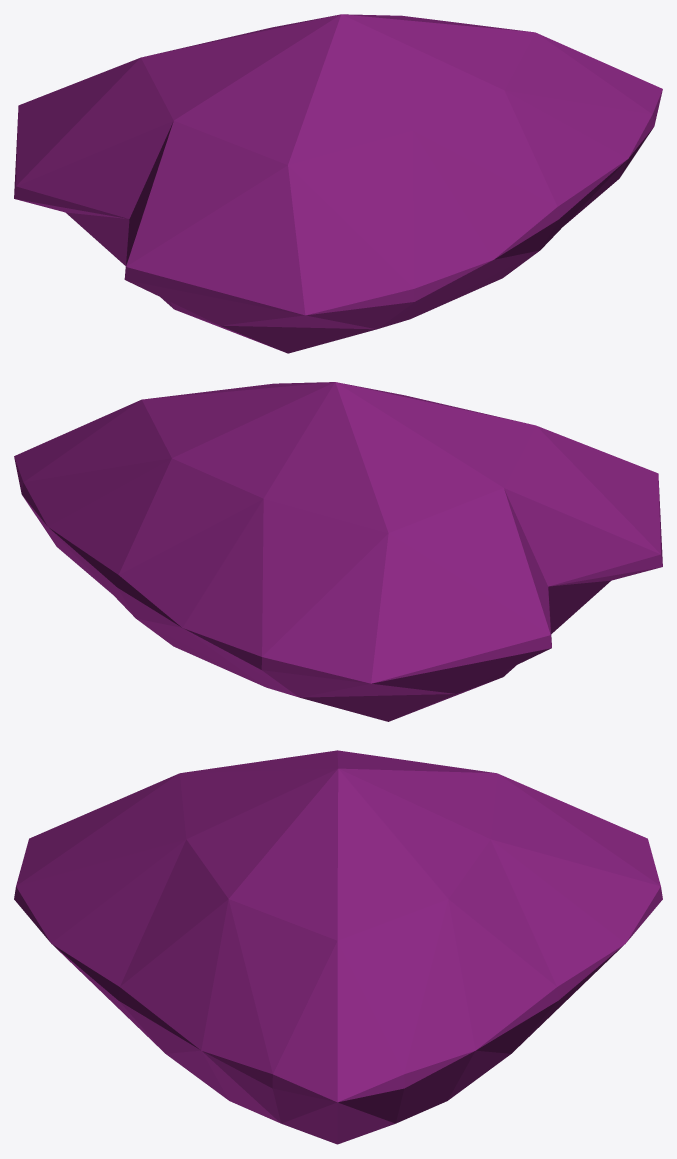
File: Gem004.fbx
The picture shows the model from 3 angles, top to bottom: view 1: azimuth 30°, elevation 25°; view 2: azimuth 150°, elevation 25°; view 3: azimuth 270°, elevation 25°; orthographic projection. The views are drawn at different scales.
Visible parts, largest first — view 1: Gem004; view 2: Gem004; view 3: Gem004.
Boxes of the visible parts, x1,y1,x2,y2 form: Gem004: (14,14,662,353); Gem004: (14,382,662,721); Gem004: (14,750,662,1144).
Size of the model in its own units: 248 by 101 by 218.
